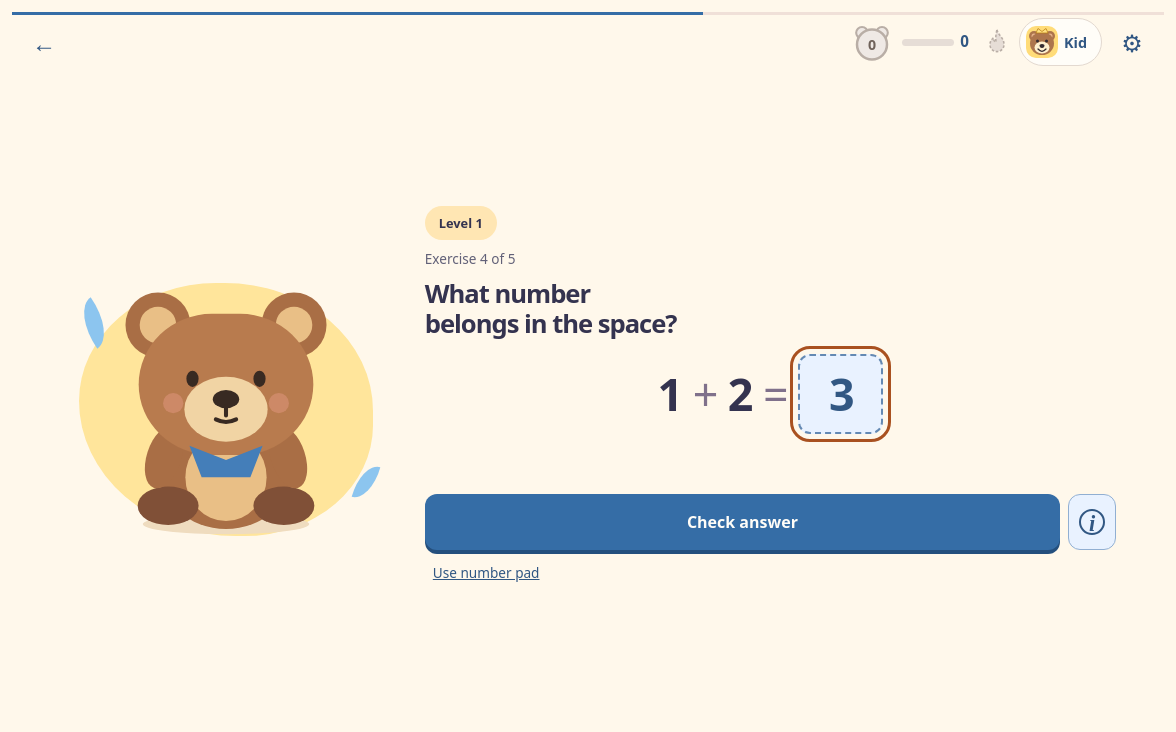
Test case: a failed save says so and Try again saves the same lesson
This screenshot has width=1176, height=732.
Earlier steps of the test are not shown.
Click the button "Check answer": [742, 522] box [425,494,1060,550]
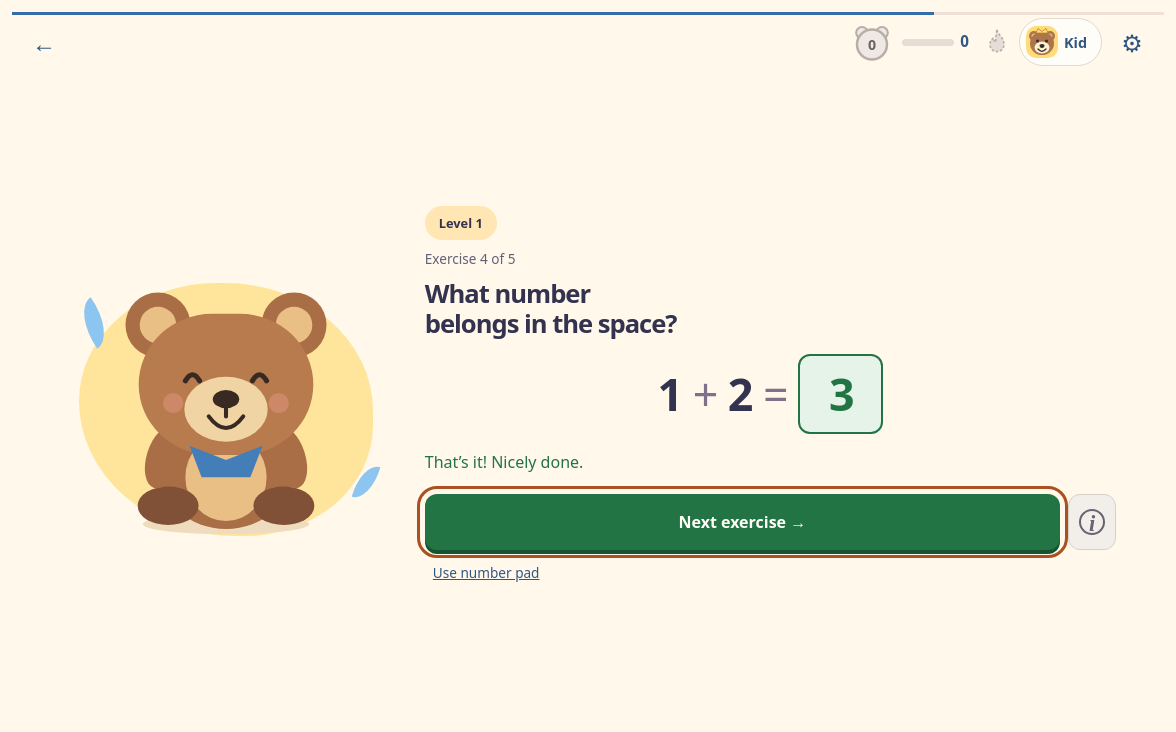
Click the button "Next exercise →": [742, 522] box [425,494,1060,550]
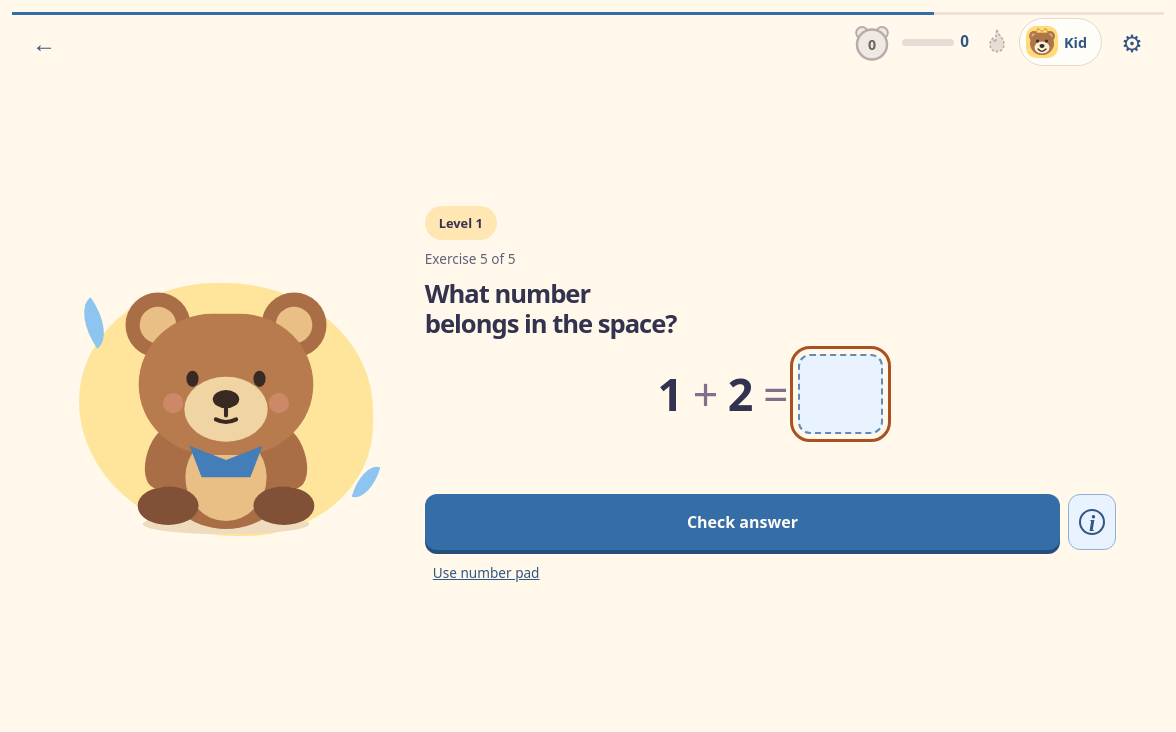
In the field: [841, 394] box [798,354,883,434], type "3"
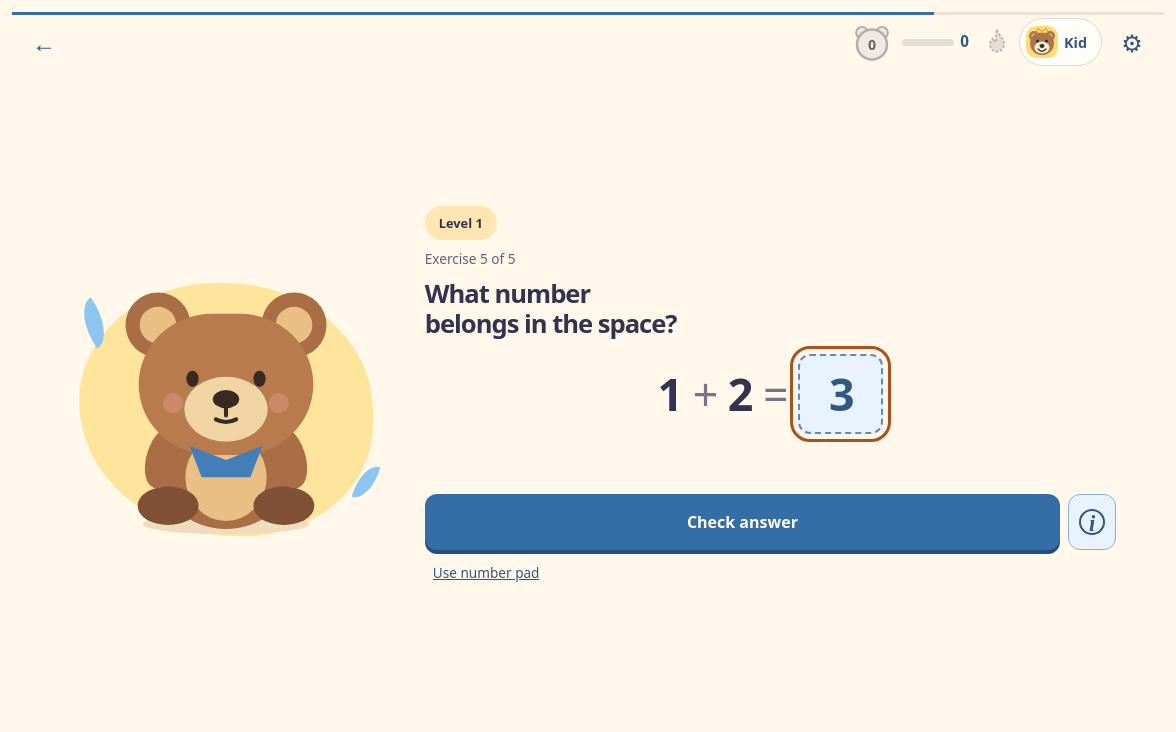
Click the button "Check answer": [742, 522] box [425,494,1060,550]
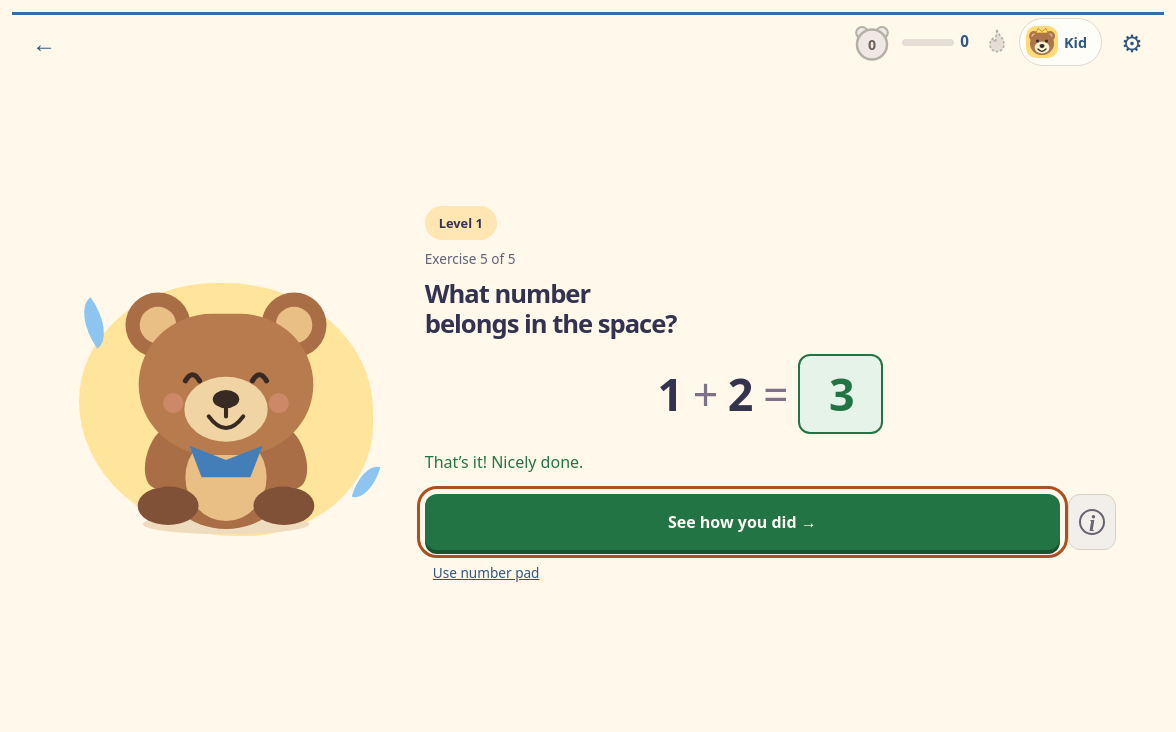
Click the button "See how you did →": [742, 522] box [425,494,1060,550]
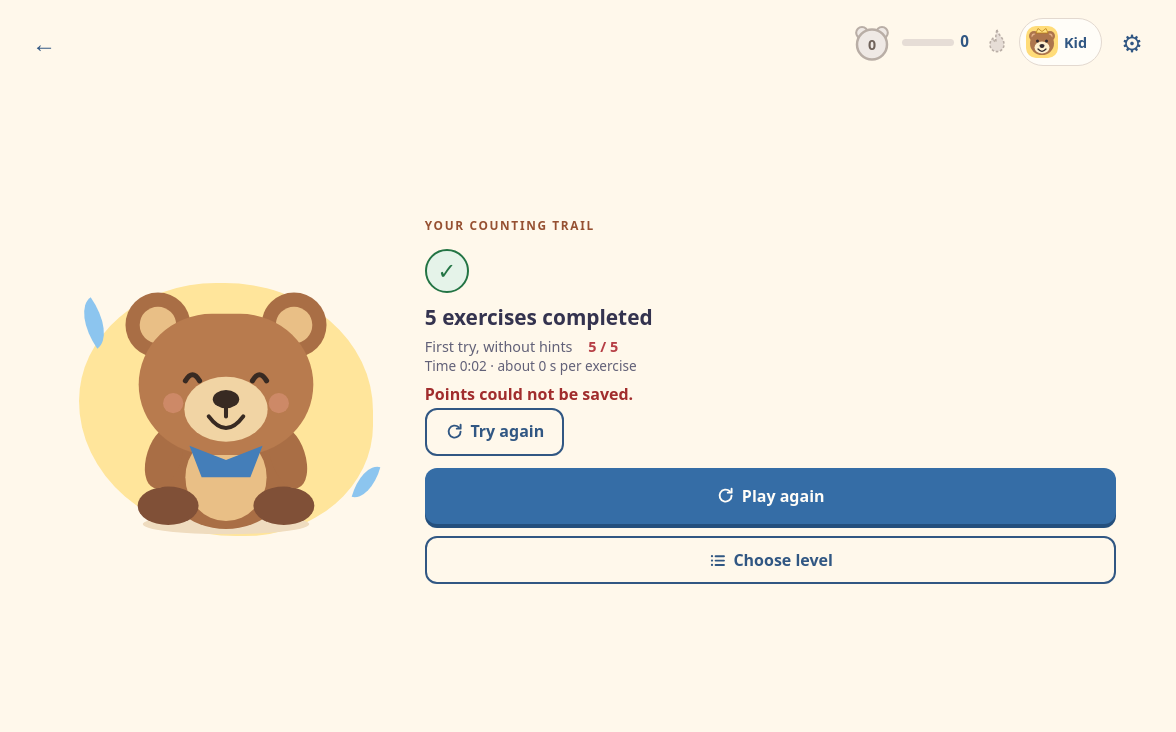
Expected: the text "Points could not be saved." is shown, [425,383,633,405]
Click the button "Try again": [494, 432] box [425,408,564,456]
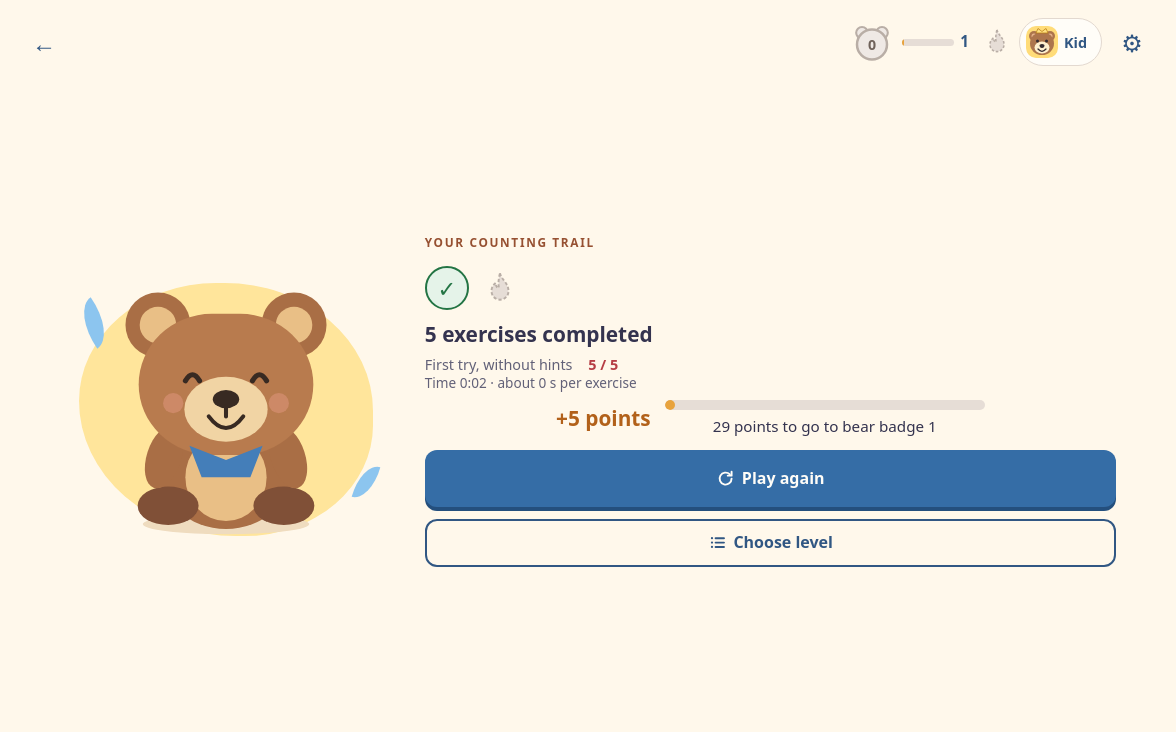
Expected: the text "+5 points" is shown, [556,402,651,436]
